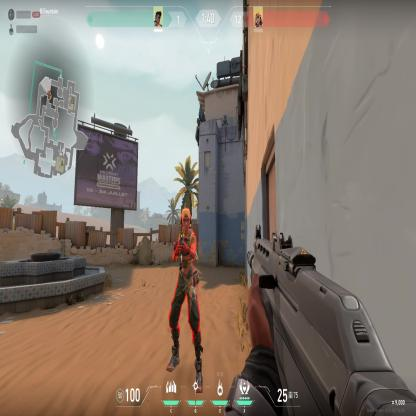enemy: (165, 206, 204, 377)
